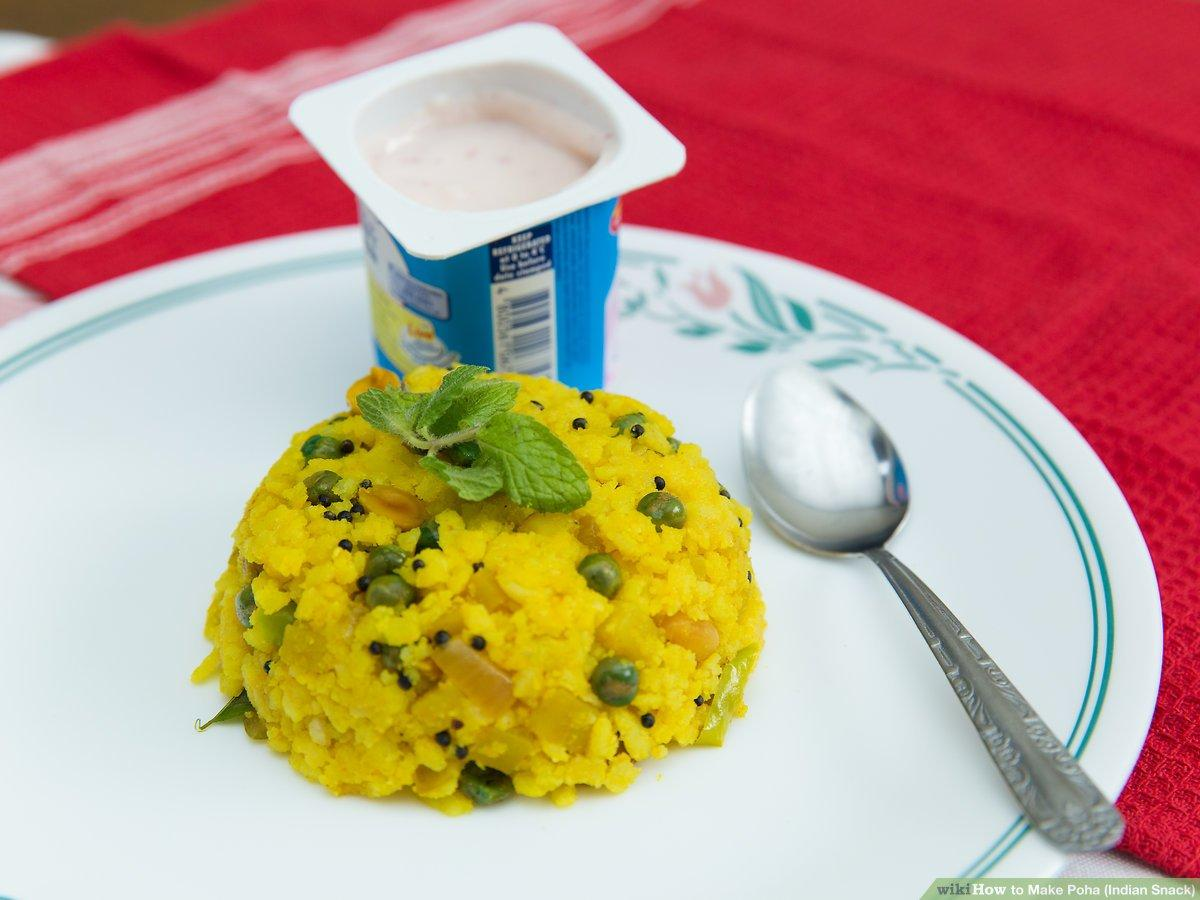poha: (213, 368, 782, 812)
yogurt: (331, 61, 675, 375)
